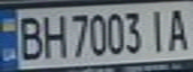0: (87, 10, 109, 57), (106, 9, 127, 56)
3: (124, 7, 145, 55)
7: (66, 10, 90, 60)
A: (163, 3, 193, 53)
B: (12, 12, 45, 61)
H: (39, 11, 69, 60)
I: (145, 6, 172, 54)
